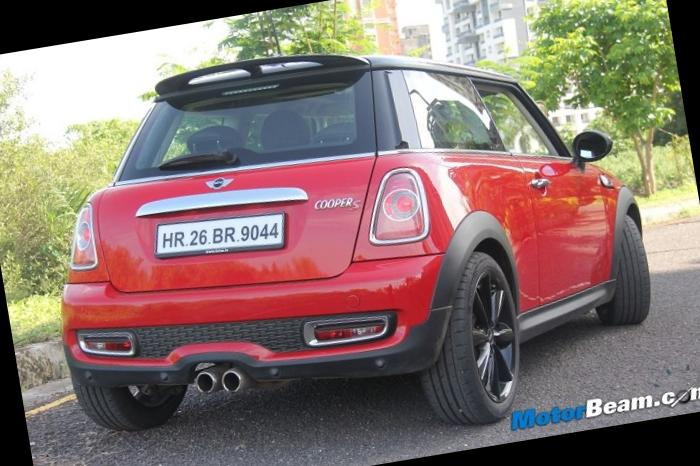plate: (149, 189, 319, 288)
